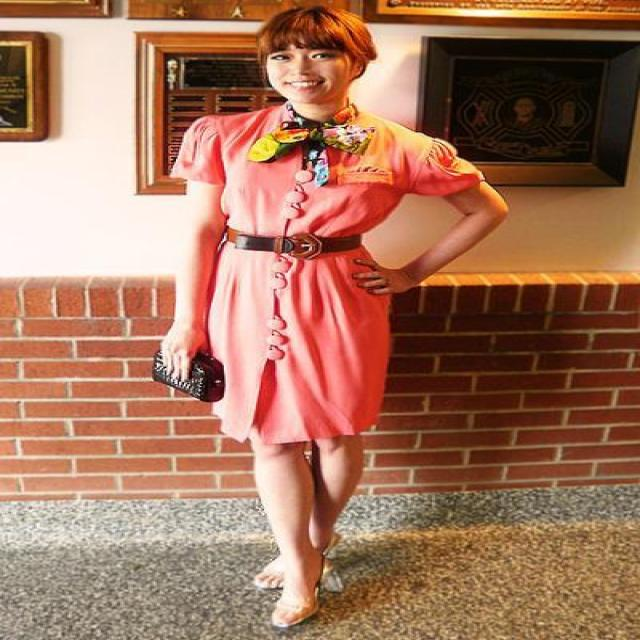bag: (152, 346, 224, 401)
dress: (169, 103, 486, 454)
